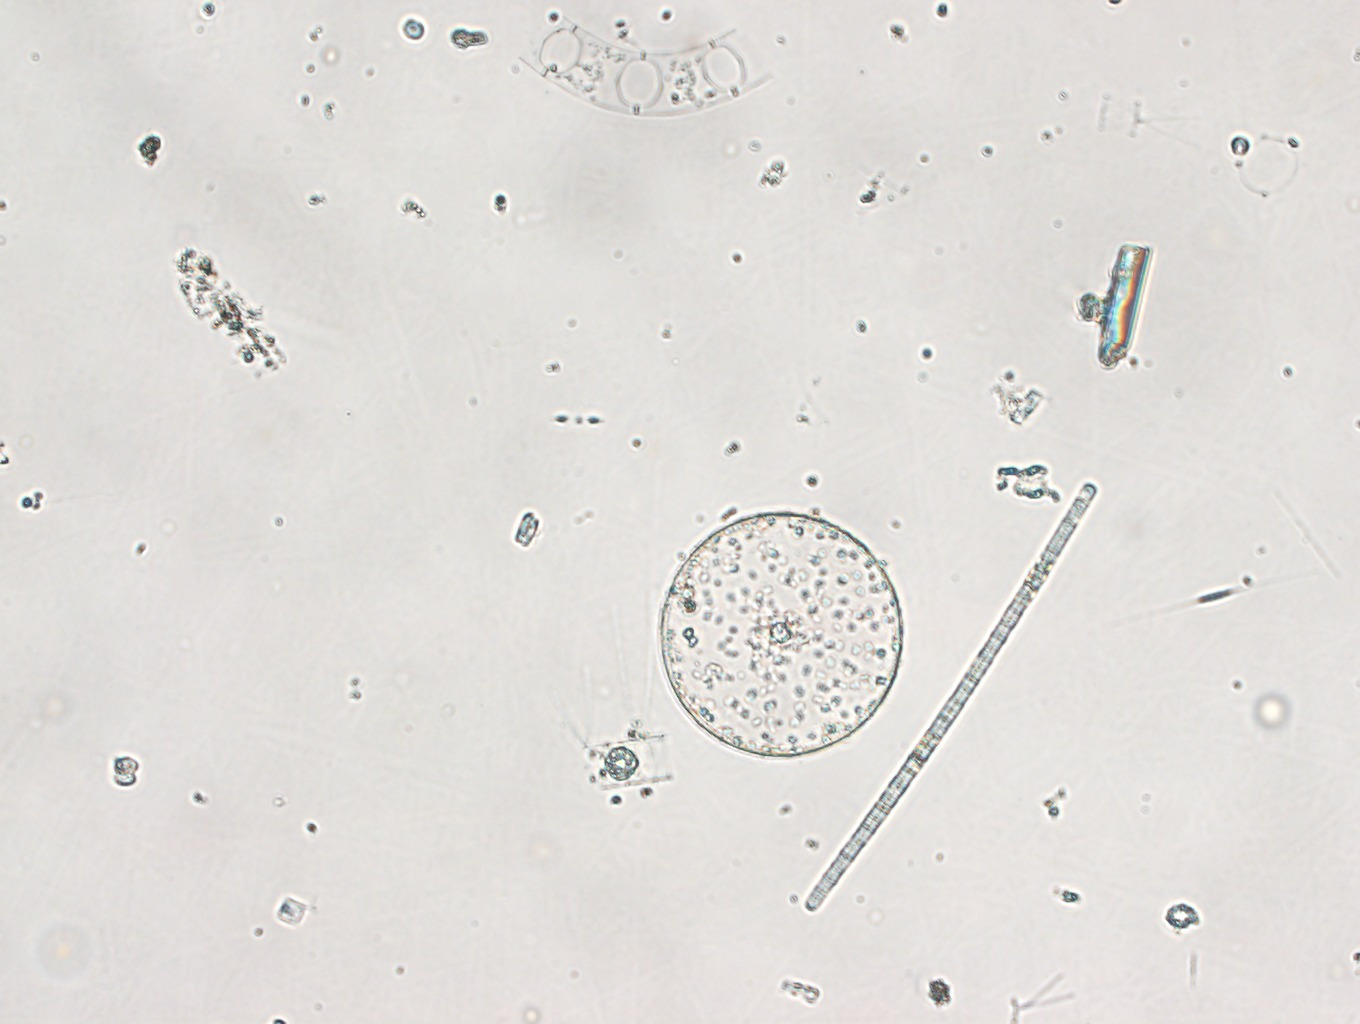coscinodiscus: (659, 512, 903, 758)
eucampia: (518, 15, 775, 119)
